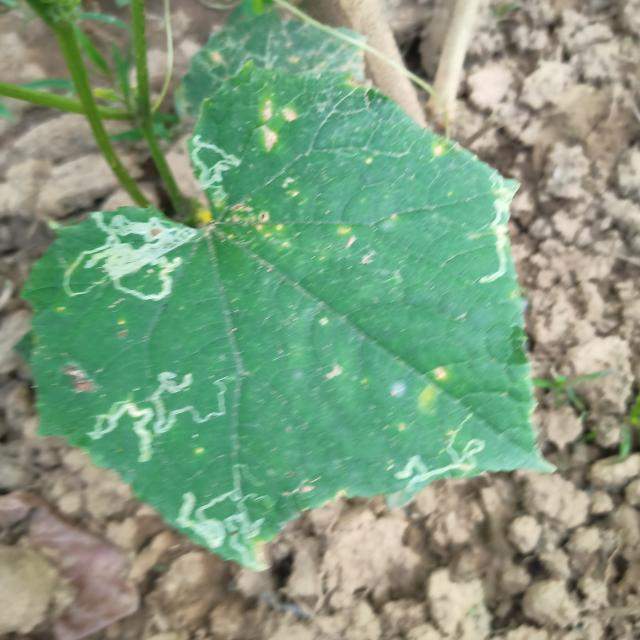disease_cucumber: (255, 96, 300, 152), (414, 360, 452, 414)
